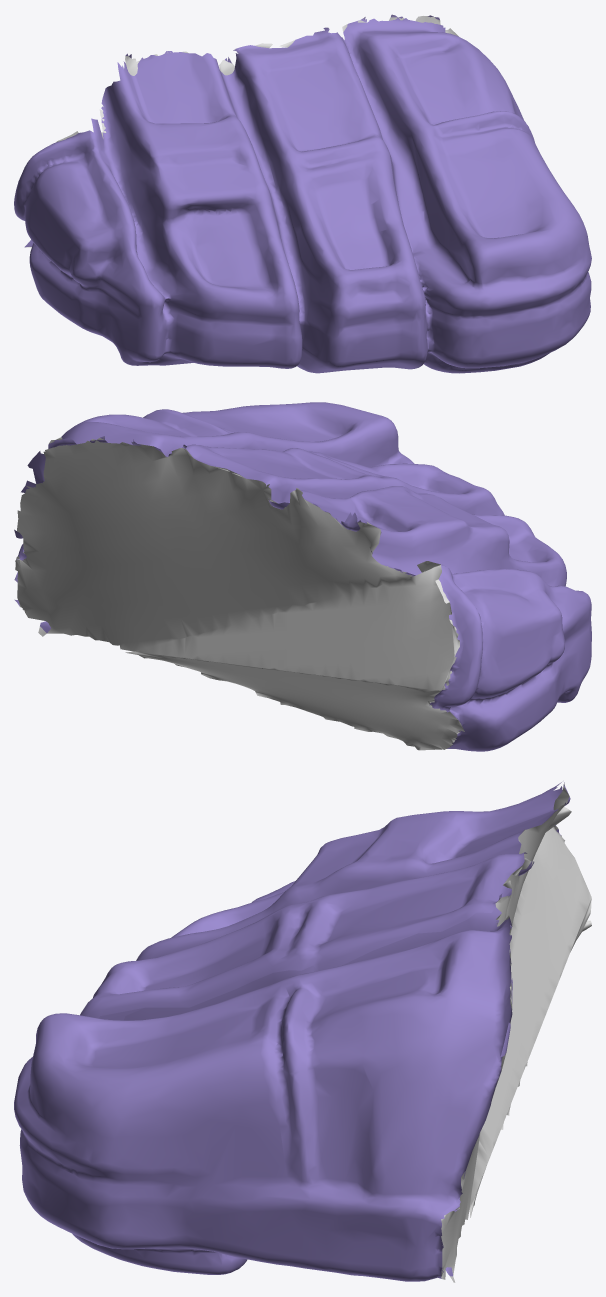
File: Hi3D_Segmented Pastel Female Android 3D Model Asset_part38_20261014_192059.glb
The picture shows the model from 3 angles, top to bottom: view 1: azimuth 30°, elevation 25°; view 2: azimuth 150°, elevation 25°; view 3: azimuth 270°, elevation 25°; orthographic projection. The views are drawn at different scales.
Visible parts, largest first — view 1: Hi3D_Segmented Pastel Female Android 3D Model Asset_part38_2; view 2: Hi3D_Segmented Pastel Female Android 3D Model Asset_part38_2; view 3: Hi3D_Segmented Pastel Female Android 3D Model Asset_part38_2.
Boxes of the visible parts, x1=… form: Hi3D_Segmented Pastel Female Android 3D Model Asset_part38_2: x1=14, y1=14, x2=591, y2=373; Hi3D_Segmented Pastel Female Android 3D Model Asset_part38_2: x1=14, y1=402, x2=591, y2=751; Hi3D_Segmented Pastel Female Android 3D Model Asset_part38_2: x1=14, y1=782, x2=591, y2=1282.
Size of the model in its own units: 0.0559 by 0.0264 by 0.0444.
